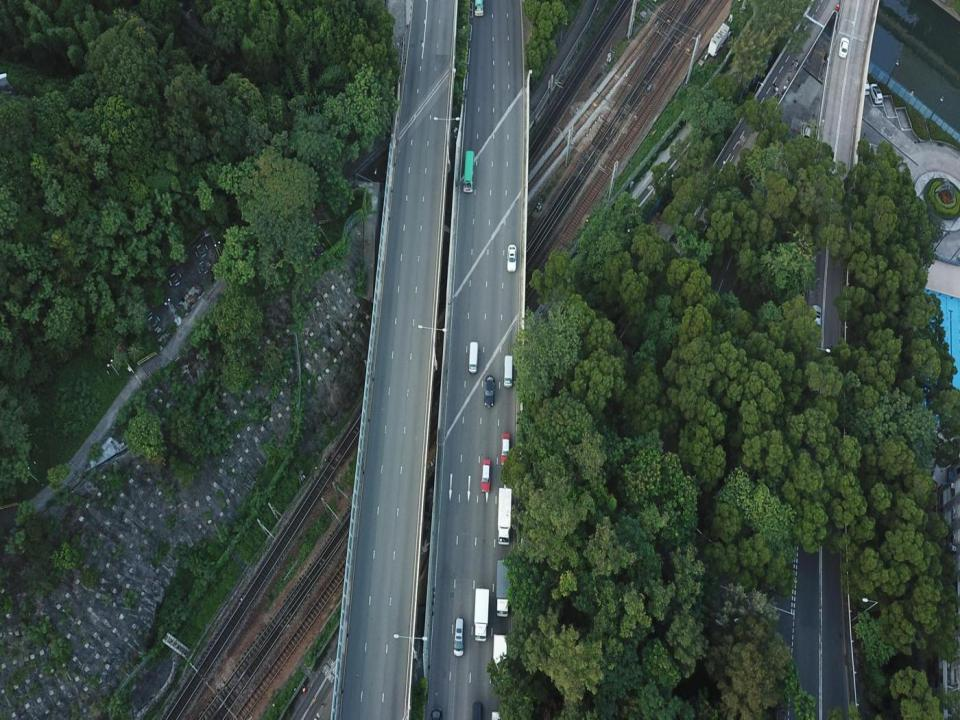bus: (463, 151, 475, 192), (473, 0, 484, 16)
car: (474, 586, 488, 640), (500, 432, 510, 467), (484, 375, 495, 406), (481, 458, 491, 492), (810, 304, 821, 334), (870, 83, 883, 103), (507, 244, 516, 272), (858, 76, 870, 96), (839, 36, 848, 58)
truck: (495, 559, 511, 618), (493, 634, 508, 687), (498, 487, 511, 545)
van: (454, 617, 465, 657), (468, 340, 478, 375), (504, 356, 514, 389), (471, 701, 482, 718)
